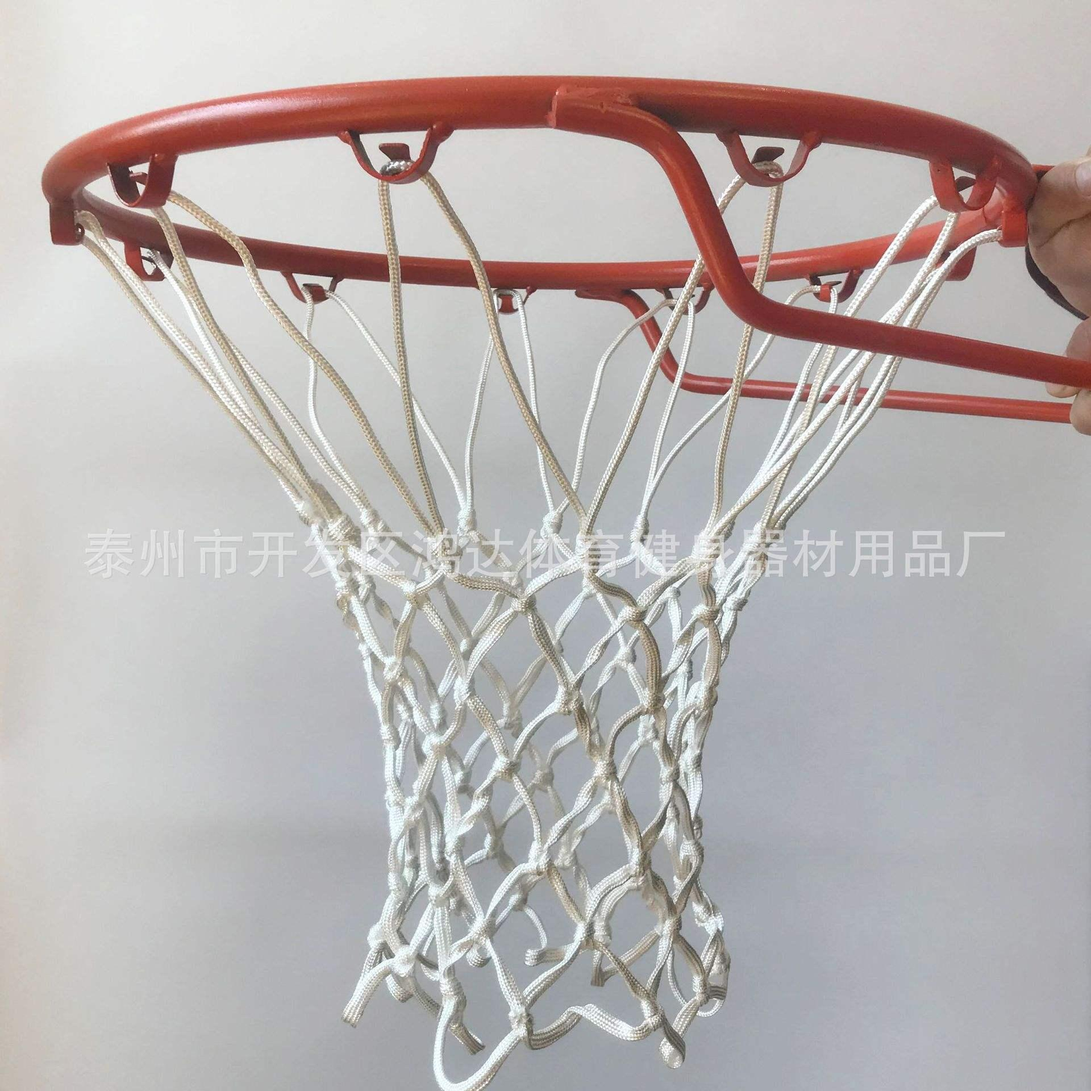rim: (44, 68, 1034, 1085)
